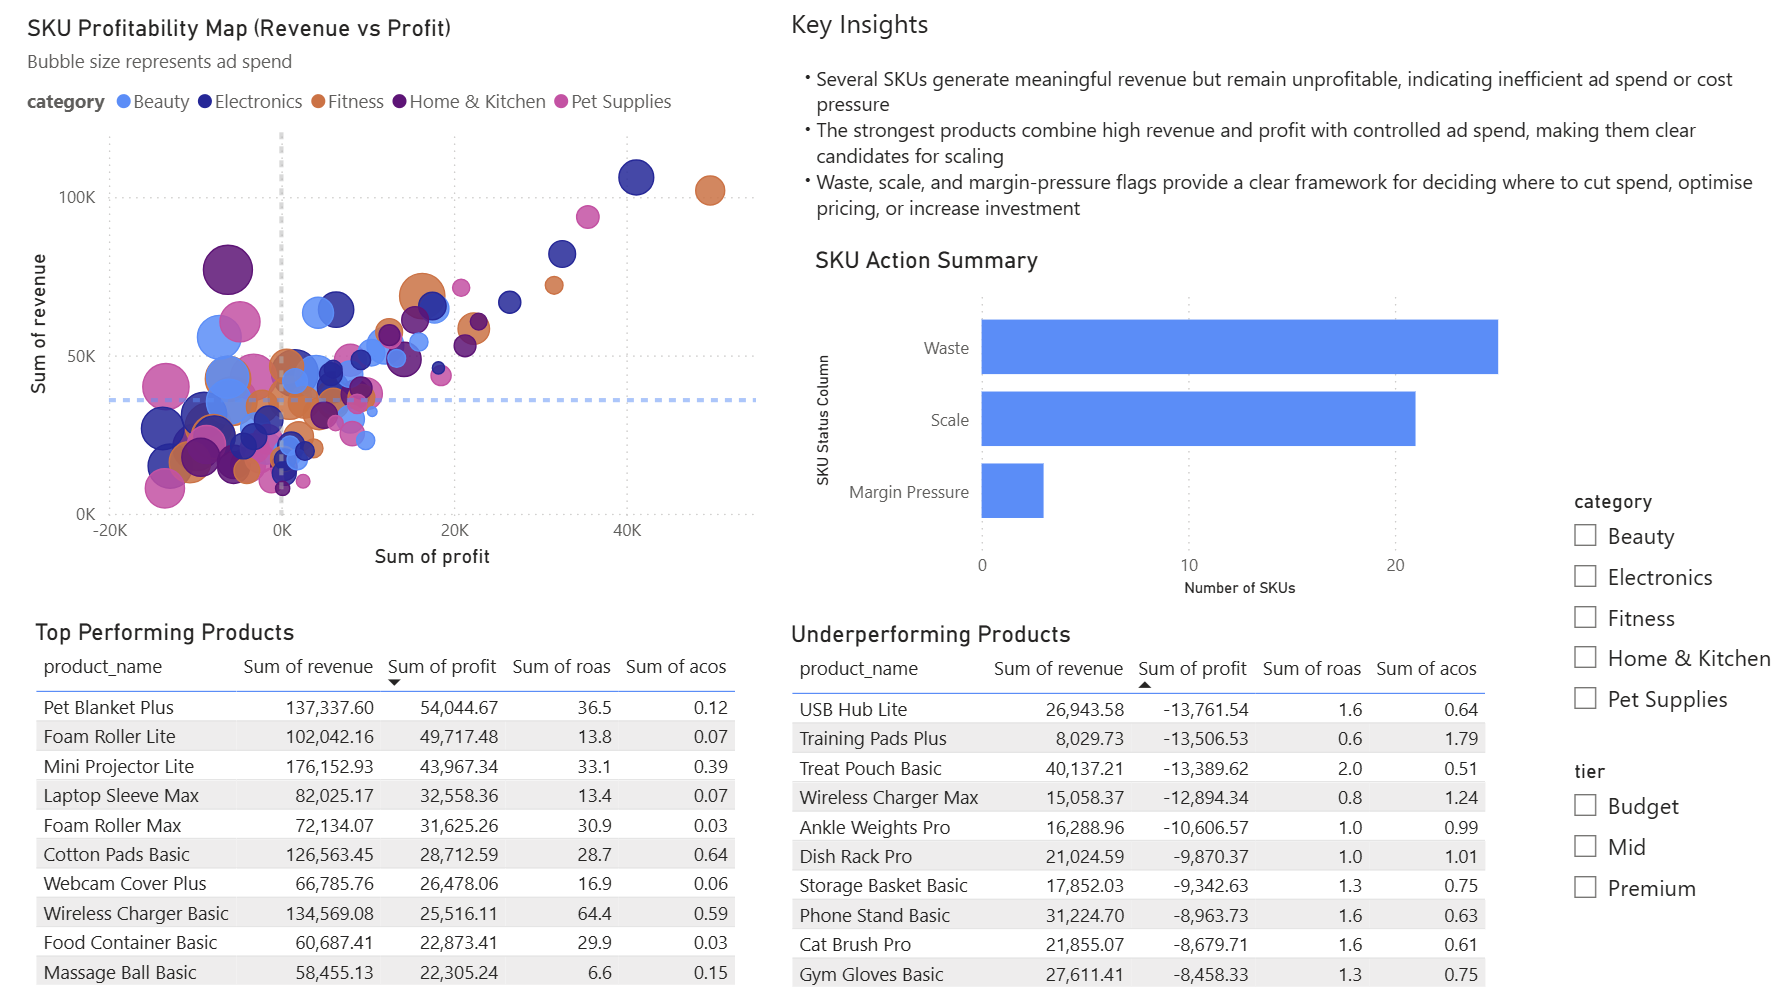

Layout of this report page (visuals, bound fields, positions):
{"tool":"powerbi","page":{"name":"Product Performance","canvas":[1280,720],"ordinal":1},"visuals":[{"type":"scatterChart","title":"SKU Profitability Map (Revenue vs Profit)","fields":{"Category":["sku_summary.acos"],"X":["Sum(sku_summary.profit)"],"Y":["Sum(sku_summary.revenue)"],"Size":["Sum(sku_summary.ad_spend)"],"Series":["sku_summary.category"]},"box":[20.4,11.5,540.6,400.3],"z":0},{"type":"tableEx","title":"Top Performing Products","fields":{"Values":["sku_summary.product_name","Sum(sku_summary.revenue)","Sum(sku_summary.profit)","Sum(sku_summary.roas)","Sum(sku_summary.acos)"]},"box":[25.5,443.3,535.5,276.7],"z":1000},{"type":"tableEx","title":"Underperforming Products","fields":{"Values":["sku_summary.product_name","Sum(sku_summary.revenue)","Sum(sku_summary.profit)","Sum(sku_summary.roas)","Sum(sku_summary.acos)"]},"box":[566.2,443.8,535,276.2],"z":2000},{"type":"slicer","fields":{"Values":["sku_summary.category"]},"box":[1117.1,345.7,162.9,175.7],"z":3000},{"type":"slicer","fields":{"Values":["sku_summary.tier"]},"box":[1117.1,538.6,154.3,125.7],"z":4000},{"type":"textbox","box":[566.1,0,705,164.5],"z":5000},{"type":"barChart","title":"SKU Action Summary","fields":{"Category":["sku_summary.SKU Status Column"],"Y":["CountNonNull(sku_summary.product_id)"]},"box":[582.5,177.5,505,255],"z":6000}]}

Visuals, with their boxes in screenshot pixels (x1, y1, x2, y2), scaled from the page's 1280x720 canvas onto the 1783x1000 screenshot:
"SKU Profitability Map (Revenue vs Profit)" scatterChart: 28/16/781/572
"Top Performing Products" tableEx: 36/616/781/999
"Underperforming Products" tableEx: 789/616/1534/999
slicer - sku_summary.category: 1556/480/1782/724
slicer - sku_summary.tier: 1556/748/1771/923
textbox: 789/0/1771/228
"SKU Action Summary" barChart: 811/247/1515/601
